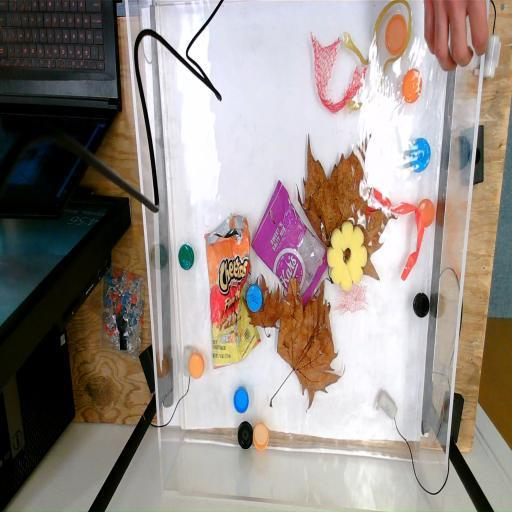Bottle Cap: (384, 12, 408, 56), (398, 66, 424, 102), (408, 133, 431, 172), (416, 192, 436, 230), (252, 420, 272, 452), (237, 418, 255, 449), (413, 288, 430, 320), (188, 350, 205, 382), (178, 240, 194, 272), (233, 384, 250, 412), (247, 284, 262, 314)
Leaf: (294, 130, 401, 302), (266, 271, 346, 410), (244, 276, 288, 340)
Netting: (304, 32, 374, 112), (332, 279, 375, 317)
Plastic Bag: (202, 214, 268, 372), (250, 180, 330, 308)
Plastic Strand: (335, 0, 421, 112), (368, 176, 428, 284)
Sponge: (324, 222, 374, 294)
